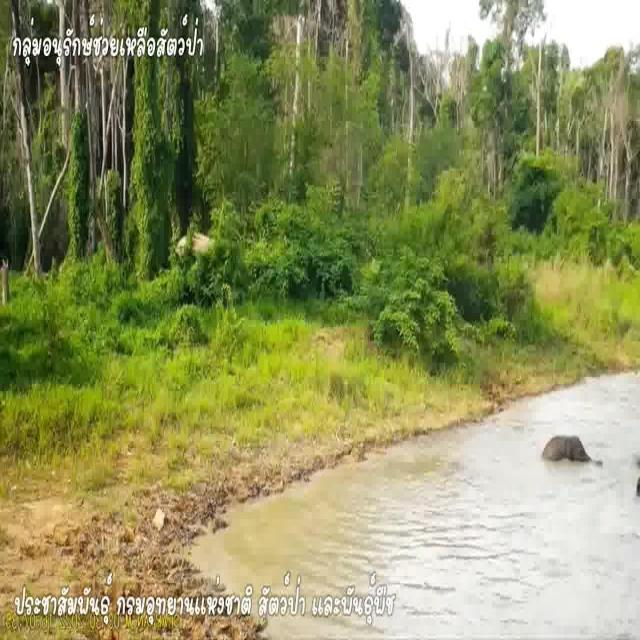Elephant: (537, 428, 593, 470)
